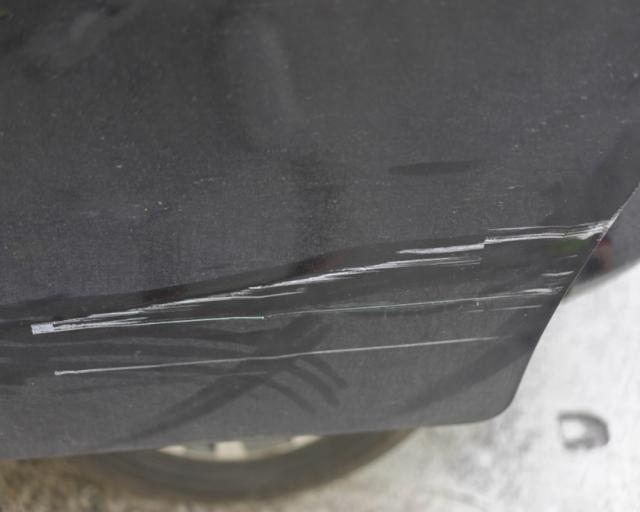scratch: (29, 213, 621, 383)
